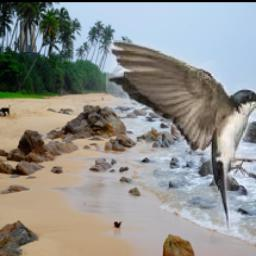Swallow: (107, 41, 256, 231)
